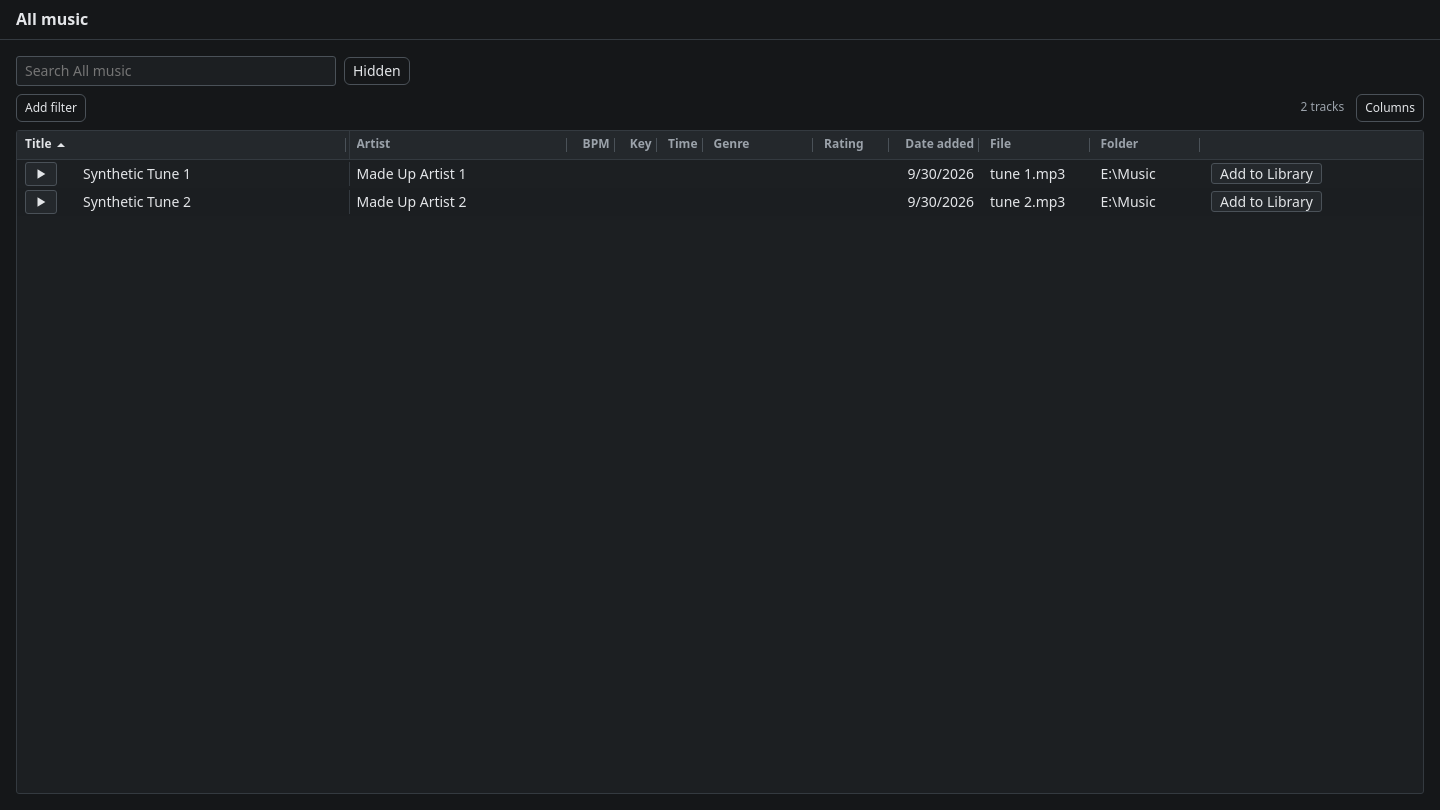
Test case: the All music screen › adds one track to the Library when asked, and then says it's in the Library
Step 1. Click the button "Add to Library" in the row of "Synthetic Tune 2" → x=1266, y=202, box top-left (1211, 191), bottom-right (1322, 212)
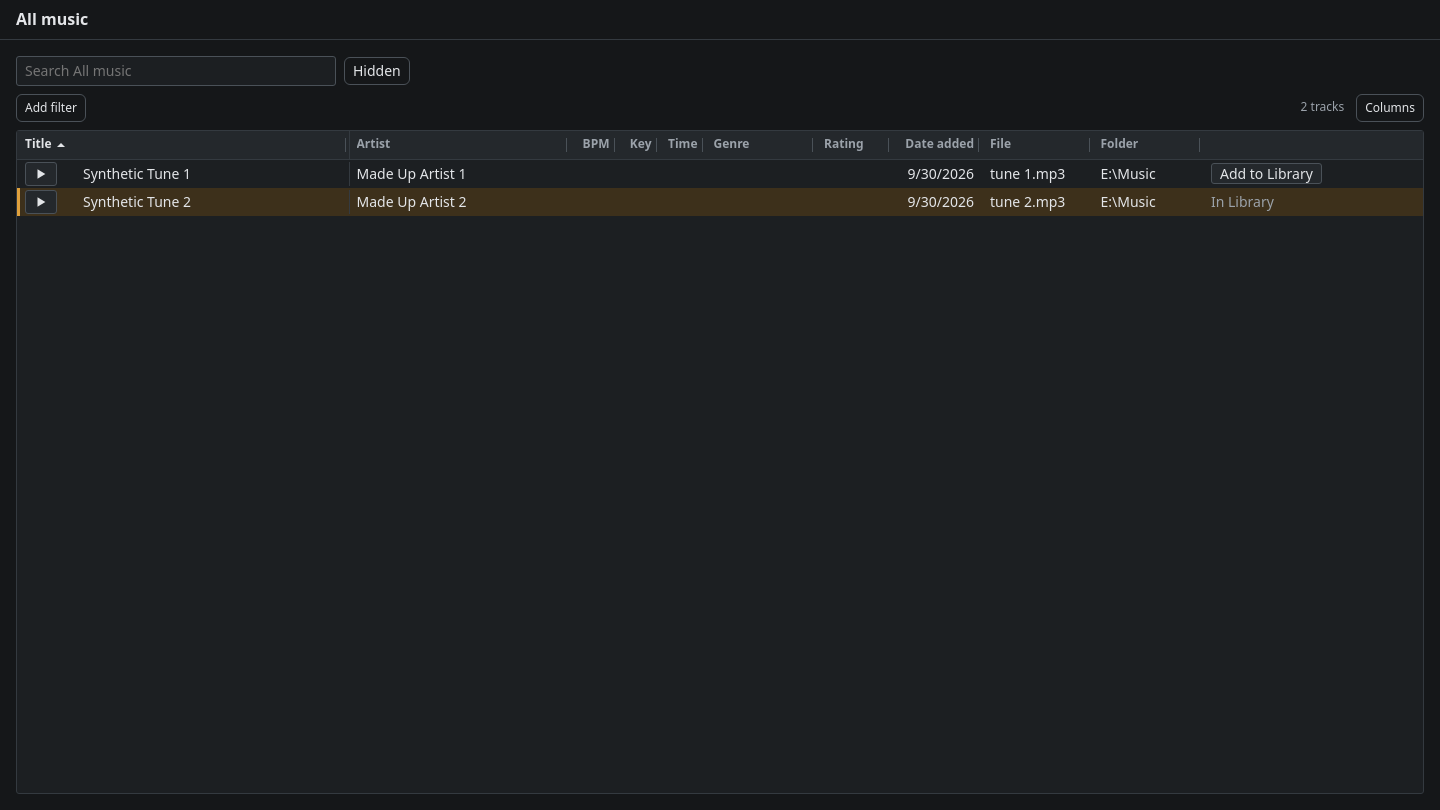
expect the button "Add to Library" is enabled: met, box top-left (1211, 163), bottom-right (1322, 184)
expect the row that starts with "Synthetic Tune 2" shows "In Library": met, box top-left (1211, 192), bottom-right (1274, 211)
